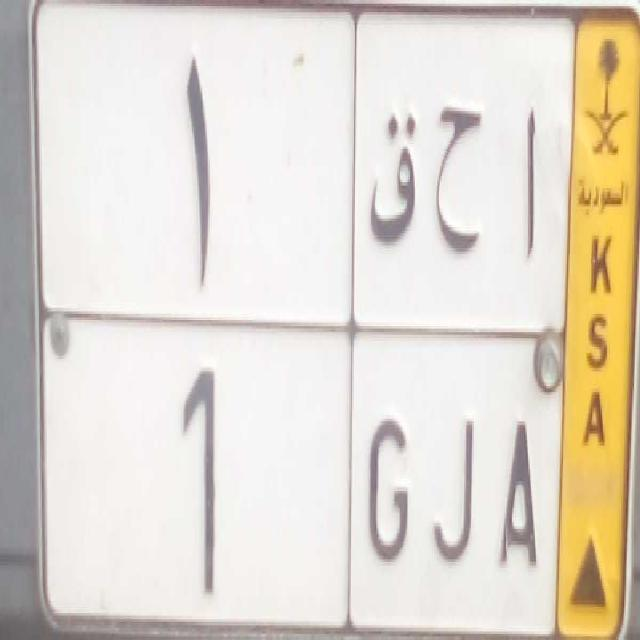license_plate: (38, 299, 560, 640)
